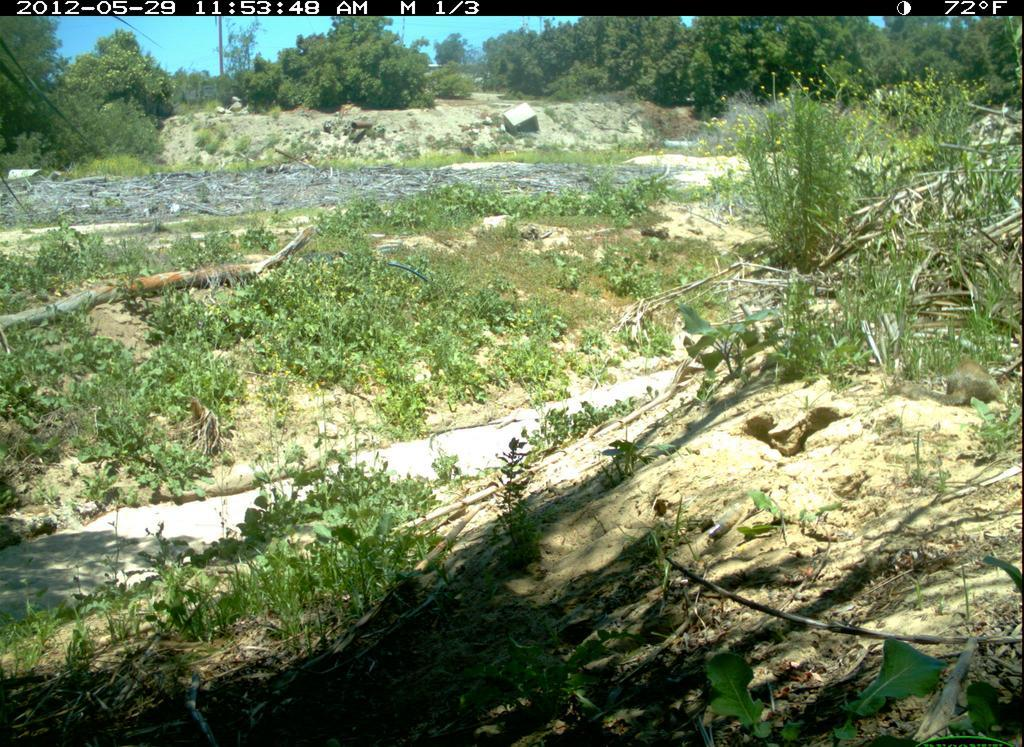squirrel: (904, 354, 1002, 416)
